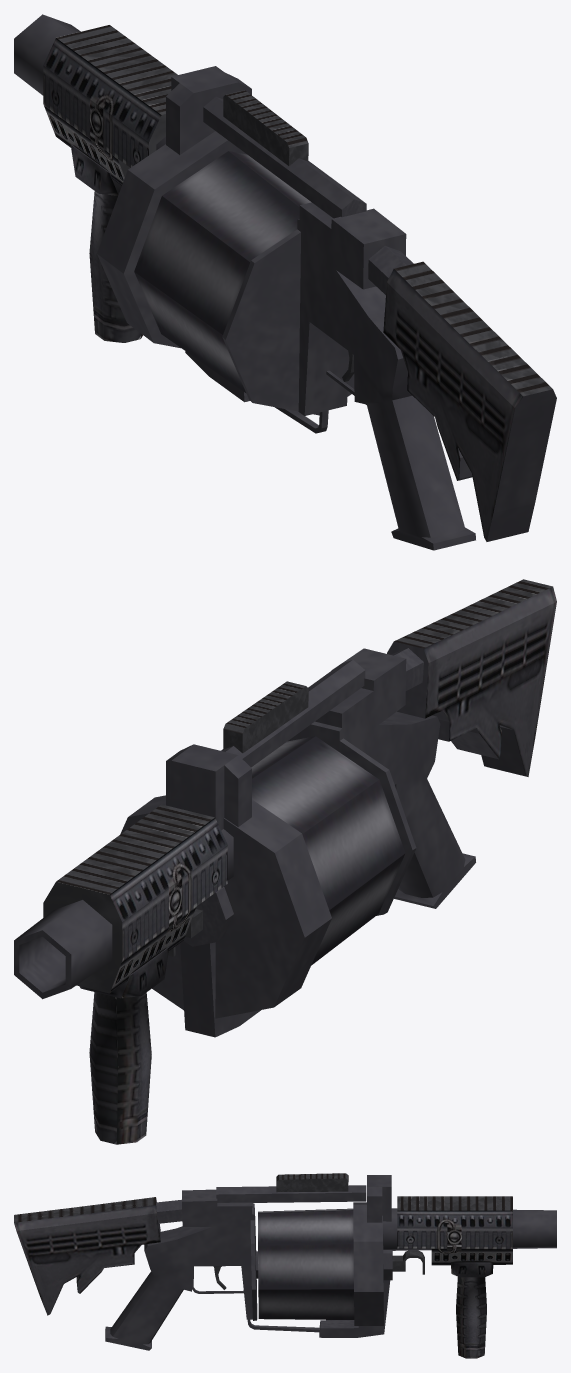
File: Grenade Launcher.fbx
3 renders of one model, top to bottom at view 1: azimuth 30°, elevation 25°; view 2: azimuth 150°, elevation 25°; view 3: azimuth 270°, elevation 25°, orthographic. The views are drawn at different scales.
Parts seen in each view (by area): view 1: Grenade Launcher; view 2: Grenade Launcher; view 3: Grenade Launcher.
Boxes of the visible parts, left/top/right/bottom form: Grenade Launcher: left=14, top=14, right=556, bottom=550; Grenade Launcher: left=14, top=579, right=556, bottom=1144; Grenade Launcher: left=14, top=1173, right=556, bottom=1358.
Bounding box in the file's own units: 17.47 × 72 × 25.95.
